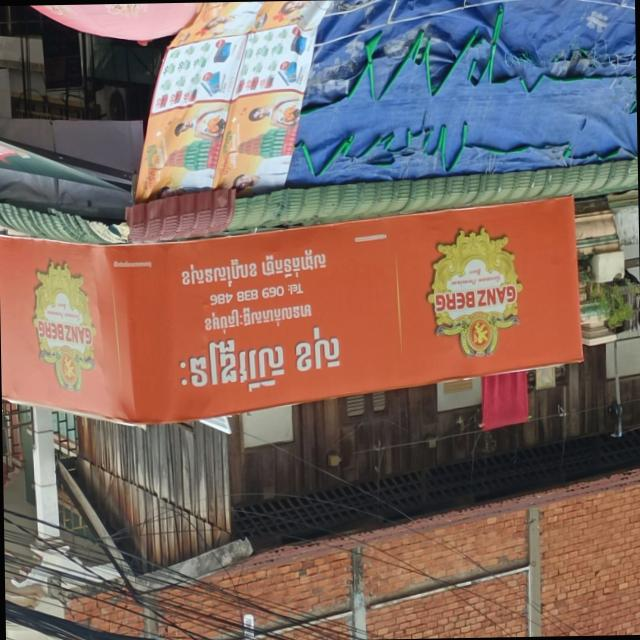1: (175, 319, 348, 401), (175, 242, 332, 296)
Yolov11_80vkh: (201, 291, 317, 338)
